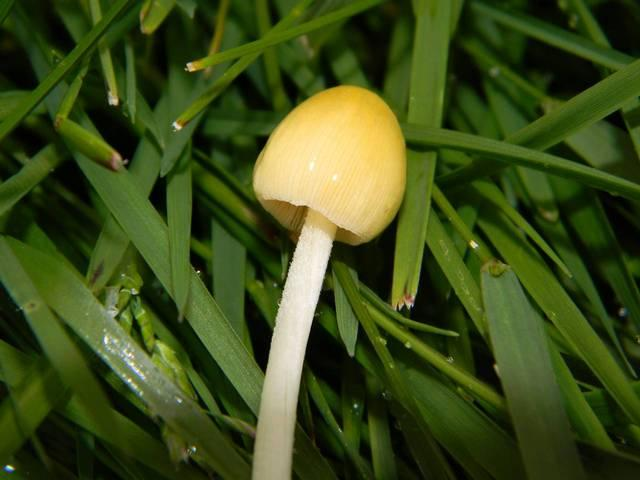edible_mushroom: (248, 83, 408, 479)
